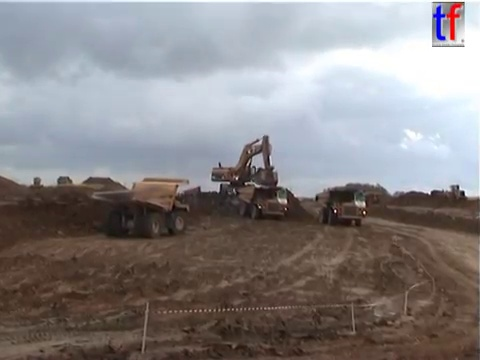excavator: (208, 134, 279, 198)
truck: (88, 176, 191, 238), (315, 189, 368, 227), (235, 184, 289, 220), (347, 186, 383, 205), (56, 174, 73, 189)
wheel loader: (429, 183, 468, 204)
